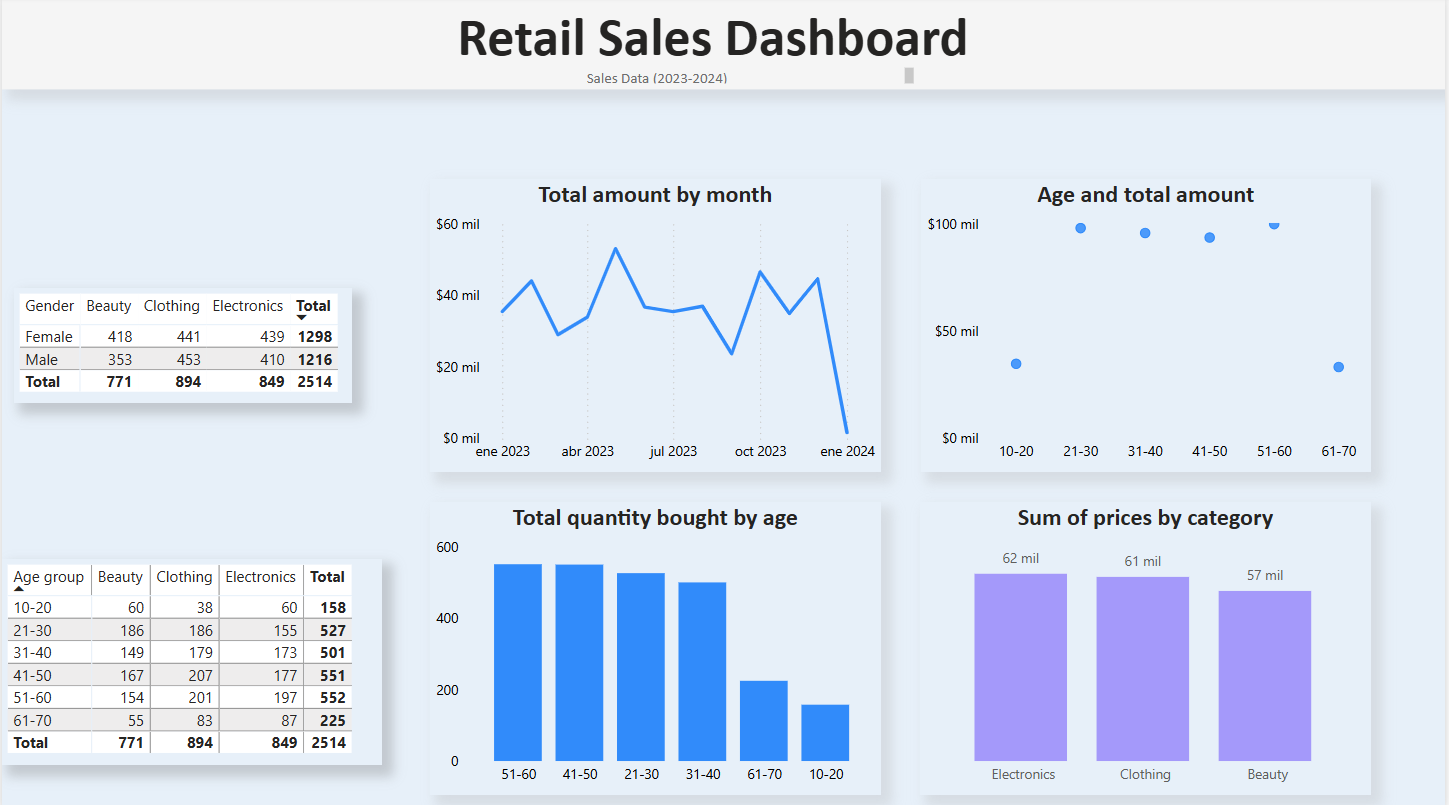

Layout of this report page (visuals, bound fields, positions):
{"tool":"powerbi","page":{"name":"Página 2","canvas":[1280,720],"ordinal":1},"visuals":[{"type":"columnChart","title":"Sum of prices by category","fields":{"Category":["retail_sales_dataset__2.Product Category"],"Y":["Sum(retail_sales_dataset__2.Price per Unit)"]},"box":[813.8,447.8,399.7,259.7],"z":0},{"type":"lineChart","title":"Total amount by month ","fields":{"Y":["Sum(retail_sales_dataset__2.Total_amount)"],"Category":["Calendario.Date.Variación.Jerarquía de fechas.Año","Calendario.Date.Variación.Jerarquía de fechas.Mes"]},"box":[379.3,161.5,399.7,259.7],"z":1000},{"type":"scatterChart","title":"Age and total amount","fields":{"X":["retail_sales_dataset__2.Age group"],"Y":["Sum(retail_sales_dataset__2.Total Amount)"]},"box":[814.8,161.5,398.7,259.7],"z":2000},{"type":"columnChart","title":"Total quantity bought by age ","fields":{"Category":["retail_sales_dataset__2.Age group"],"Y":["Sum(retail_sales_dataset__2.Quantity)"]},"box":[379.3,447.8,399.7,259.7],"z":3000},{"type":"shape","box":[0,0,1280,82],"z":4000},{"type":"textbox","box":[10.1,0,1241.5,74.9],"z":5000},{"type":"textbox","box":[513,57.7,299.5,24.3],"z":6000},{"type":"pivotTable","fields":{"Rows":["retail_sales_dataset__2.Age group"],"Columns":["retail_sales_dataset__2.Product Category"],"Values":["Sum(retail_sales_dataset__2.Quantity)"]},"box":[0,497.9,337.4,183],"z":7000},{"type":"pivotTable","fields":{"Rows":["retail_sales_dataset__2.Gender"],"Columns":["retail_sales_dataset__2.Product Category"],"Values":["Sum(retail_sales_dataset__2.Quantity)"]},"box":[10.2,257.6,299.6,102.2],"z":8000}]}

Visuals, with their boxes in screenshot pixels (x1, y1, x2, y2), scaled from the page's 1280x720 canvas onto the 1449x805 screenshot:
"Sum of prices by category" columnChart: (921, 501, 1374, 791)
"Total amount by month " lineChart: (429, 181, 882, 471)
"Age and total amount" scatterChart: (922, 181, 1374, 471)
"Total quantity bought by age " columnChart: (429, 501, 882, 791)
shape: (0, 0, 1448, 92)
textbox: (11, 0, 1417, 84)
textbox: (581, 65, 920, 92)
pivotTable - retail_sales_dataset__2.Age group x retail_sales_dataset__2.Product Category: (0, 557, 382, 761)
pivotTable - retail_sales_dataset__2.Gender x retail_sales_dataset__2.Product Category: (12, 288, 351, 402)
